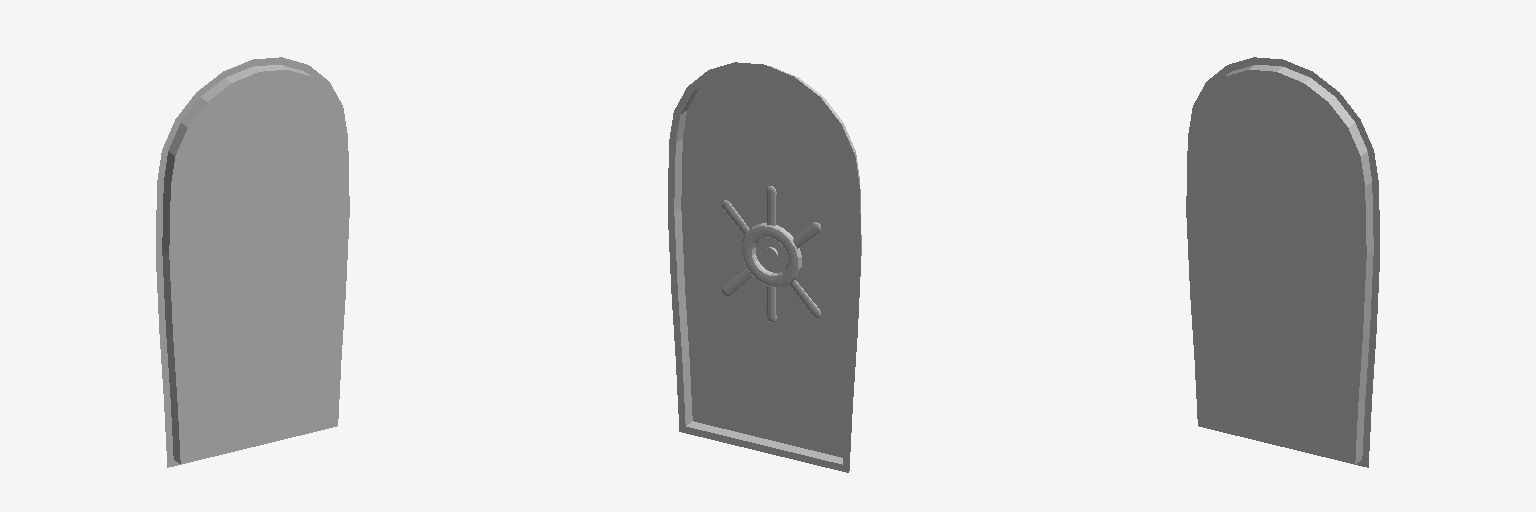
Rendered from puertaCuarto2.obj.
3 views of the same model, side by side, from view 1: azimuth 30°, elevation 25°; view 2: azimuth 150°, elevation 25°; view 3: azimuth 330°, elevation 25° (orthographic).
Visible parts, largest first — view 1: pasted__pasted__pasted__polySurface18 pasted__group10 group11; view 2: pasted__pasted__pasted__polySurface18 pasted__group10 group11; view 3: pasted__pasted__pasted__polySurface18 pasted__group10 group11.
Part boxes in pixels (left/top/right/bottom): pasted__pasted__pasted__polySurface18 pasted__group10 group11: left=156, top=57, right=349, bottom=467; pasted__pasted__pasted__polySurface18 pasted__group10 group11: left=668, top=62, right=861, bottom=472; pasted__pasted__pasted__polySurface18 pasted__group10 group11: left=1186, top=57, right=1379, bottom=467.
Size of the model in its own units: 1.78 by 3.4 by 0.1156.